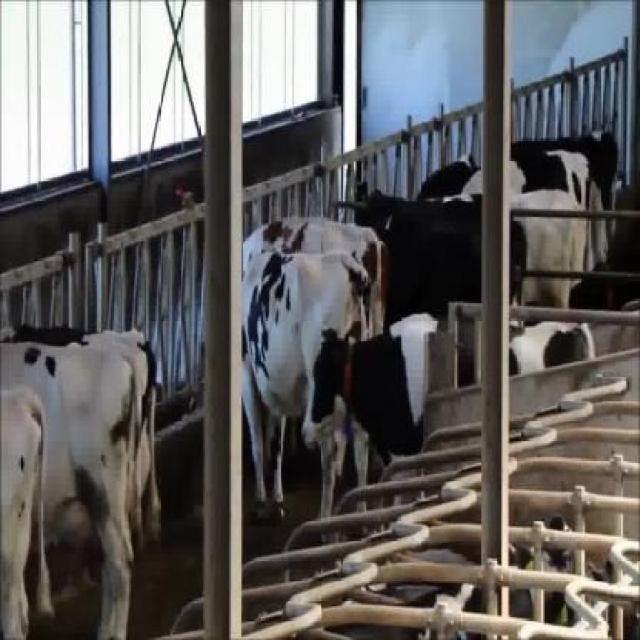Cow: (300, 309, 597, 474), (0, 342, 143, 638), (242, 246, 371, 542), (357, 186, 529, 320), (1, 384, 57, 638)
